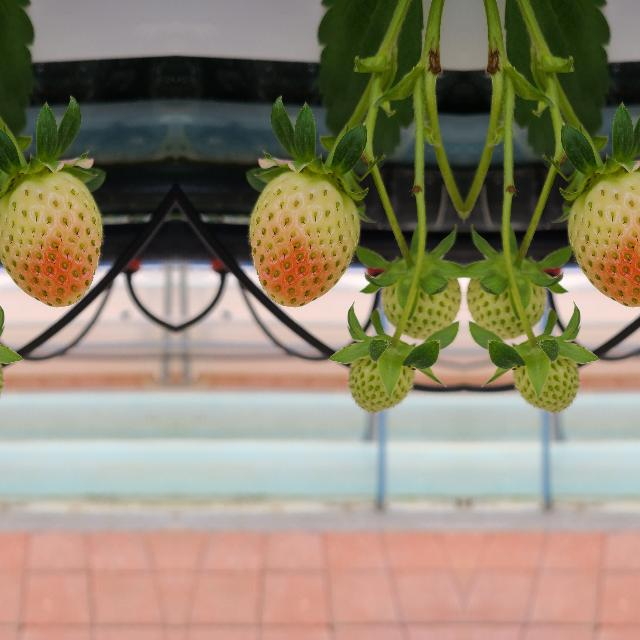Health_25: (380, 251, 462, 343), (464, 251, 546, 343), (345, 340, 413, 412), (513, 340, 581, 412)
Health_50: (248, 174, 358, 306), (0, 173, 102, 306), (568, 173, 640, 306)
